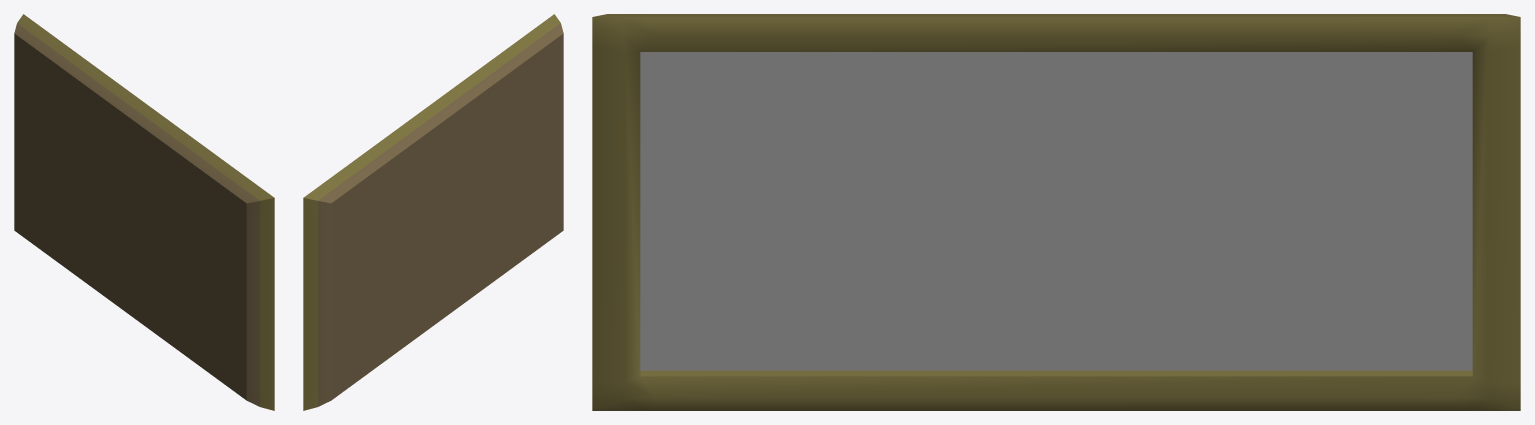
The model's file is Wide_Picture_Frame.fbx.
The picture shows the model from 3 angles, left to right: view 1: azimuth 30°, elevation 25°; view 2: azimuth 150°, elevation 25°; view 3: azimuth 270°, elevation 25°; orthographic projection. The views are drawn at different scales.
Visible parts, largest first — view 1: Picture_Frame; view 2: Picture_Frame; view 3: Painting, Picture_Frame.
Part boxes in pixels (bbox=[...]): Picture_Frame: bbox=[14, 14, 274, 410]; Picture_Frame: bbox=[303, 14, 563, 410]; Painting: bbox=[640, 52, 1472, 370]; Picture_Frame: bbox=[592, 14, 1520, 410].
Size of the model in its own units: 8.79 by 81.3 by 174.
